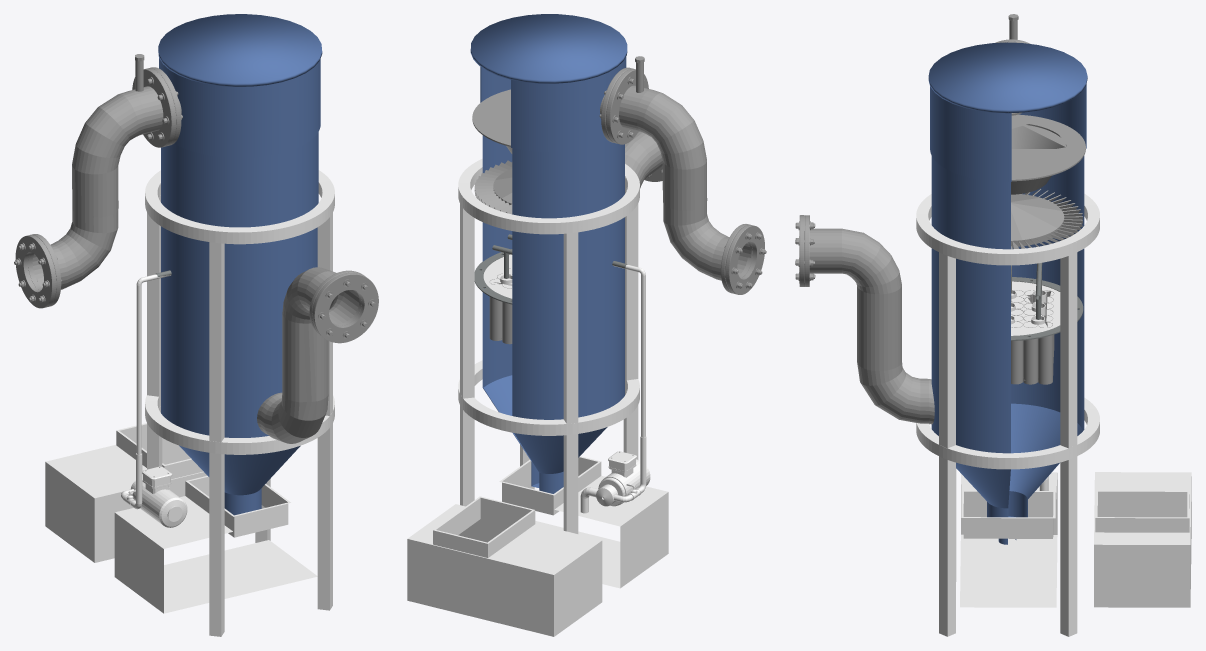
The model's file is GasCleaning.fbx.
3 views of the same model, side by side, from view 1: azimuth 30°, elevation 25°; view 2: azimuth 150°, elevation 25°; view 3: azimuth 270°, elevation 25° (orthographic). The views are drawn at different scales.
Parts seen in each view (by area): view 1: Emulsifiers, Cylinder.002, Tube#2, Tube#1; view 2: Emulsifiers, Cylinder.002, Tube#2, Фальга.032, BigCooler, Tube#1, Emulsifiers#2, Emulsifiers#3; view 3: Emulsifiers, Cylinder.002, Tube#1, Фальга.032, BigCooler, Emulsifiers#2, Emulsifiers#3.
Part boxes in pixels (bbox=[...]): Emulsifiers: bbox=[45, 14, 322, 613]; Cylinder.002: bbox=[145, 170, 334, 636]; Tube#2: bbox=[14, 54, 182, 308]; Tube#1: bbox=[257, 267, 378, 443]; Emulsifiers: bbox=[407, 14, 668, 636]; Cylinder.002: bbox=[458, 158, 639, 533]; Tube#2: bbox=[599, 56, 766, 294]; Фальга.032: bbox=[472, 89, 512, 153]; BigCooler: bbox=[474, 160, 512, 214]; Tube#1: bbox=[625, 131, 662, 188]; Emulsifiers#2: bbox=[489, 268, 512, 344]; Emulsifiers#3: bbox=[483, 254, 512, 298]; Emulsifiers: bbox=[928, 42, 1191, 607]; Cylinder.002: bbox=[916, 193, 1099, 636]; Tube#1: bbox=[795, 215, 934, 424]; Фальга.032: bbox=[1011, 114, 1085, 194]; BigCooler: bbox=[1011, 189, 1082, 249]; Emulsifiers#2: bbox=[1011, 290, 1054, 384]; Emulsifiers#3: bbox=[1011, 281, 1060, 335].
Bounding box in the file's own units: 8879 × 16272 × 10707.
